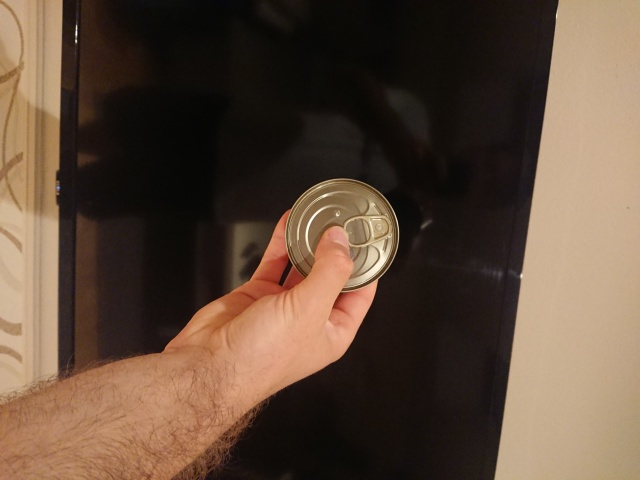Podravka Luncheon Meat 150g: (283, 175, 402, 295)
